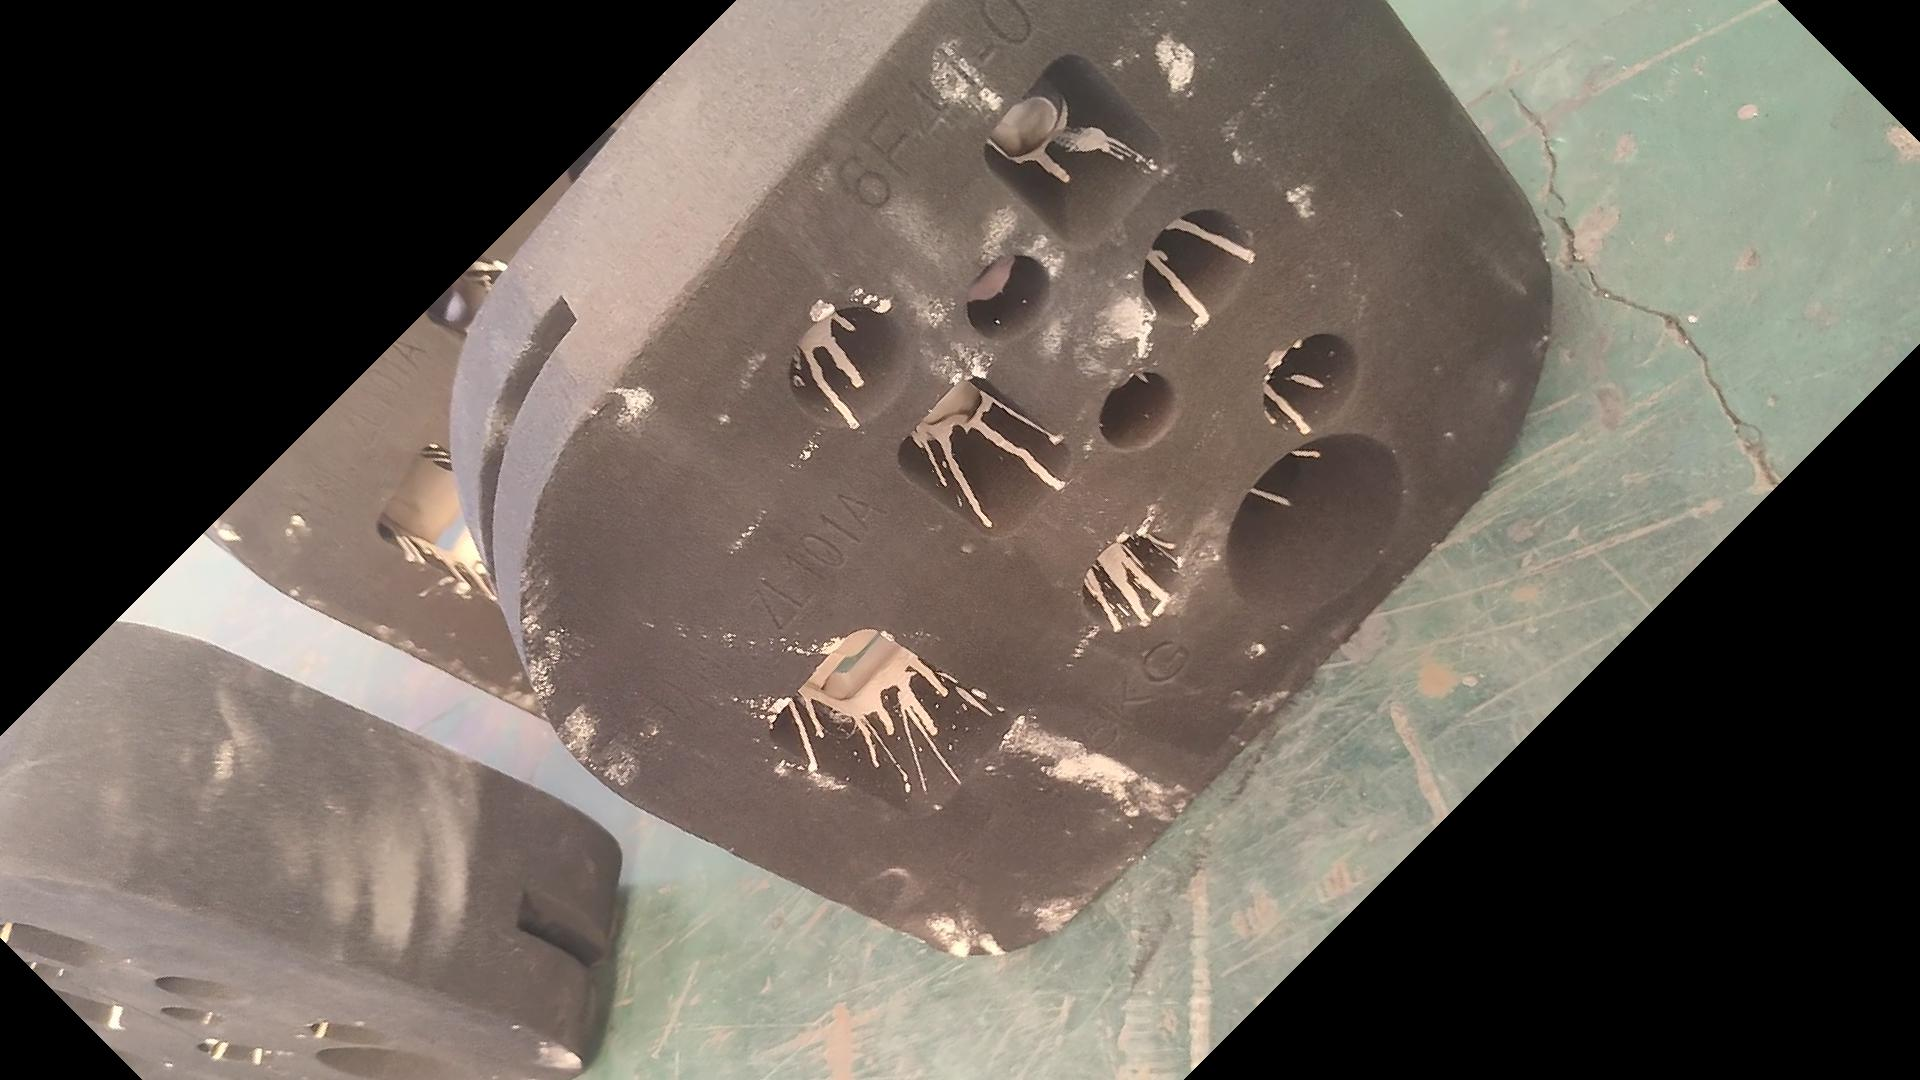pouring hole: (1222, 431, 1406, 612), (313, 1047, 483, 1080)
